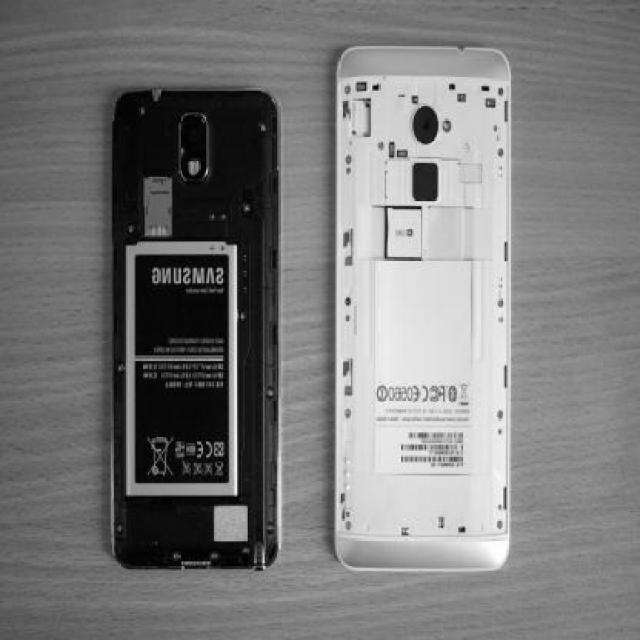fake: (333, 42, 512, 575), (112, 88, 282, 574)
